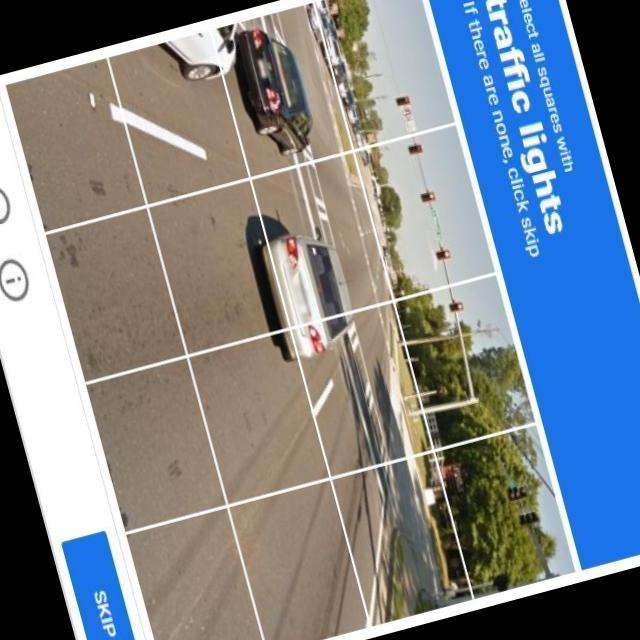red-lights: (450, 298, 465, 313)
